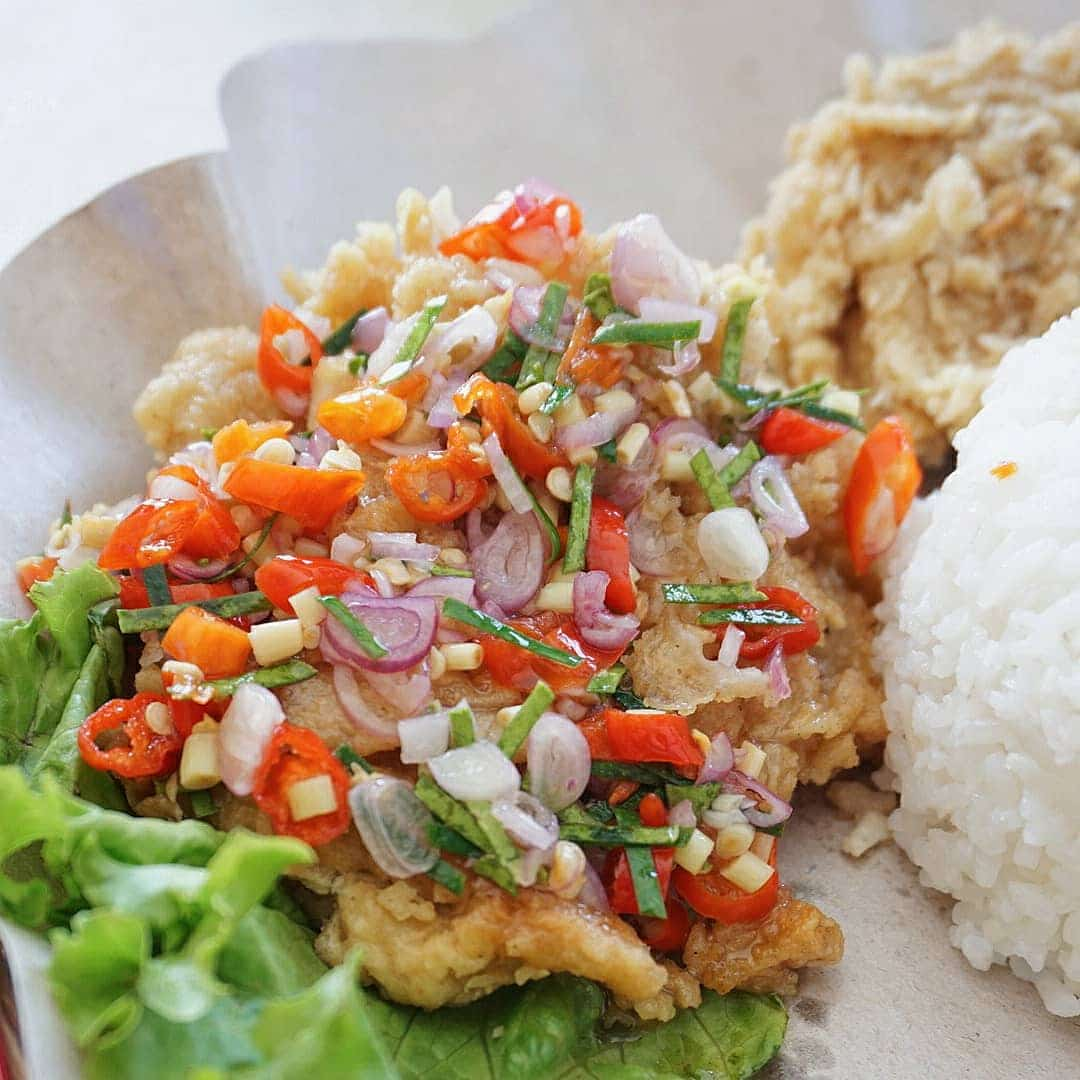ayam_geprek: (78, 212, 938, 1000)
